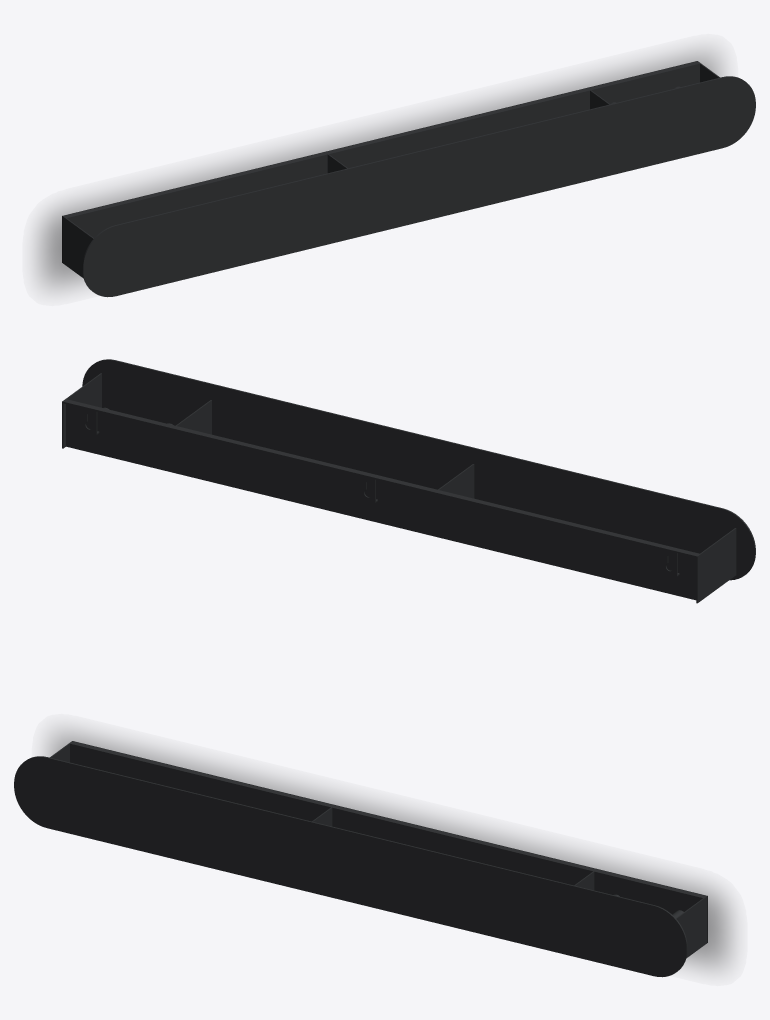
Rendered from round-patron.dbb6e76c62.ar.glb.
The picture shows the model from 3 angles, top to bottom: view 1: azimuth 30°, elevation 25°; view 2: azimuth 150°, elevation 25°; view 3: azimuth 330°, elevation 25°; orthographic projection.
Visible parts, largest first — view 1: NAUO1, object 2; view 2: NAUO1; view 3: NAUO1, object 2.
Part boxes in pixels (x1=…): NAUO1: x1=62, y1=61, x2=755, y2=297; object 2: x1=36, y1=51, x2=723, y2=288; NAUO1: x1=62, y1=359, x2=755, y2=603; NAUO1: x1=14, y1=741, x2=707, y2=977; object 2: x1=46, y1=731, x2=733, y2=968.
Size of the model in its own units: 0.98 by 0.17 by 0.092.
Materials: 2 (1 with a texture image).
